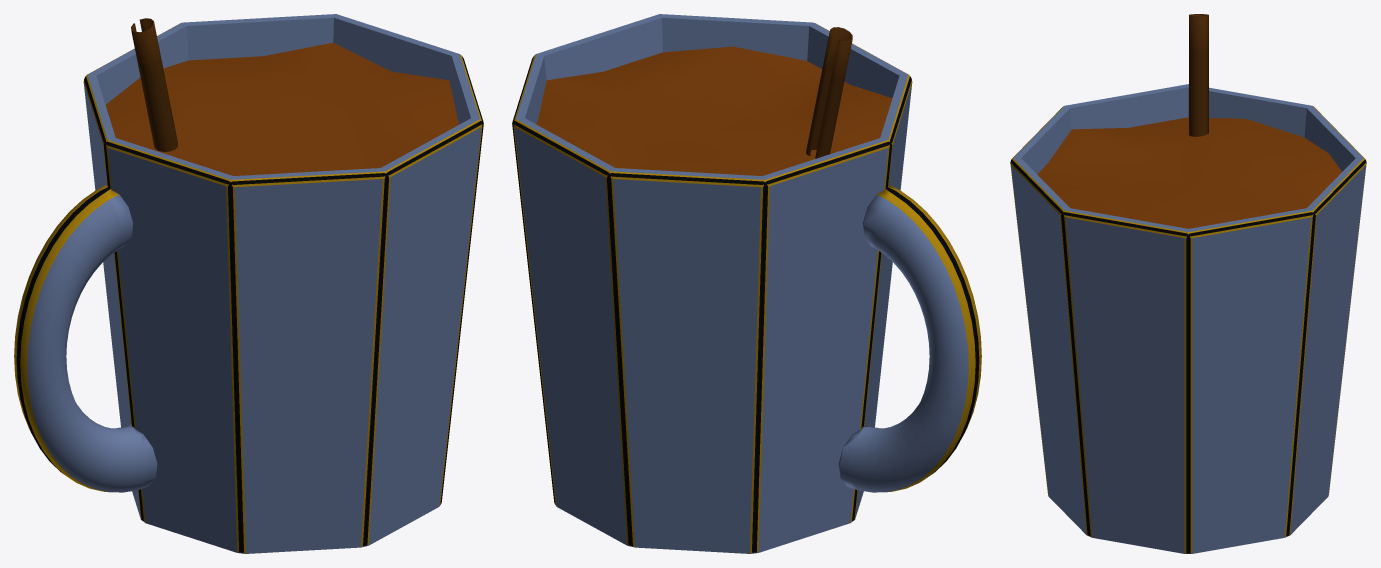
File: snake tea.fbx
The picture shows the model from 3 angles, left to right: view 1: azimuth 30°, elevation 25°; view 2: azimuth 150°, elevation 25°; view 3: azimuth 270°, elevation 25°; orthographic projection. The views are drawn at different scales.
Parts seen in each view (by area): view 1: snake; view 2: snake; view 3: snake.
Part boxes in pixels (<box>): snake: <box>14,14,483,553</box>; snake: <box>512,14,981,553</box>; snake: <box>1010,14,1366,553</box>.
Bounding box in the file's own units: 312 × 332 × 251.
